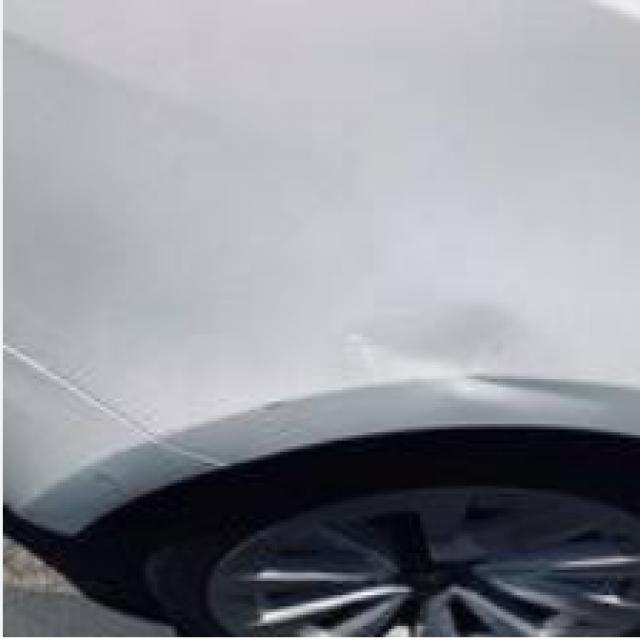dents: (341, 296, 632, 425)
